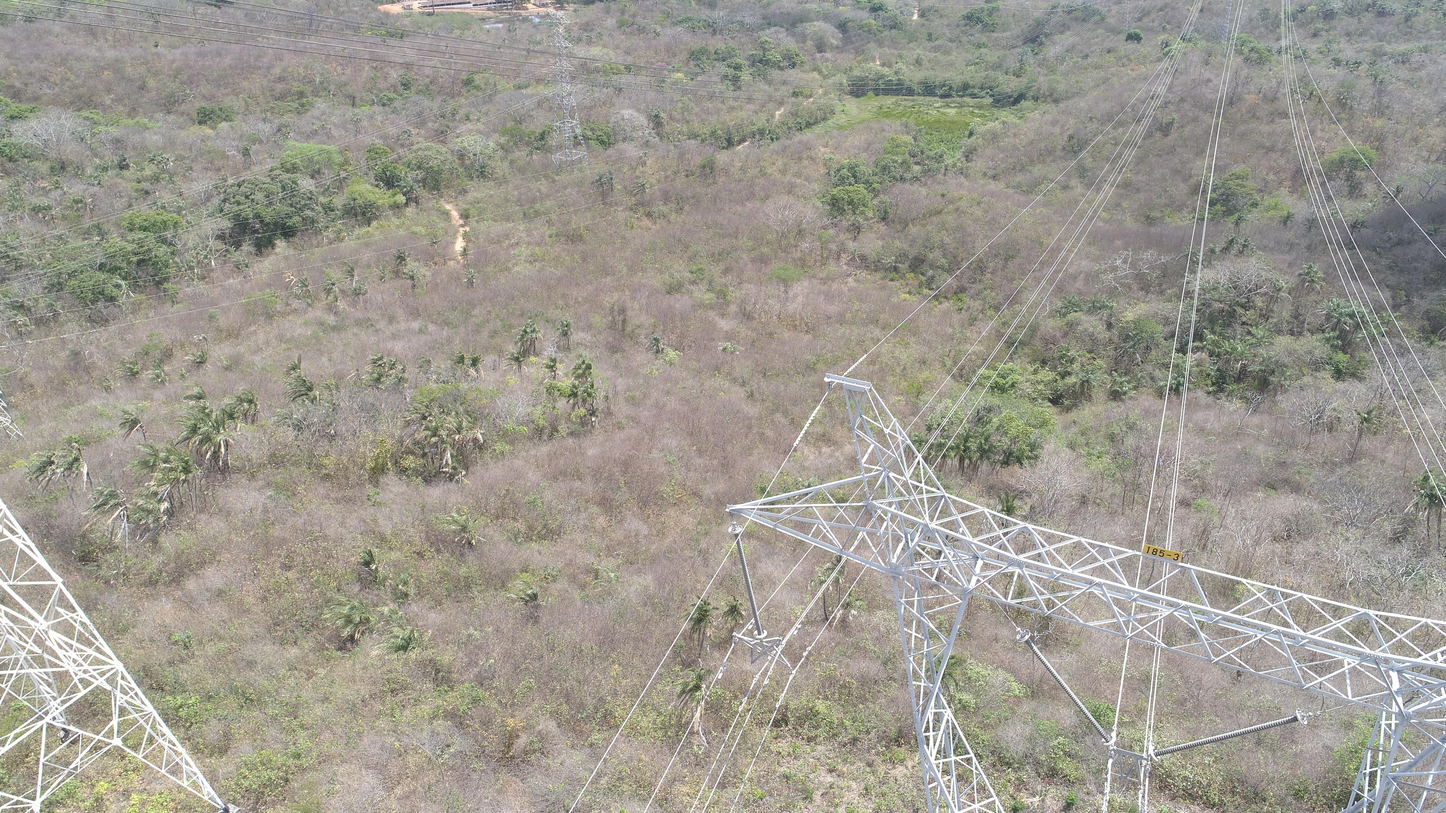power_tower: (723, 372, 1446, 812), (0, 491, 279, 813), (546, 11, 590, 173)
